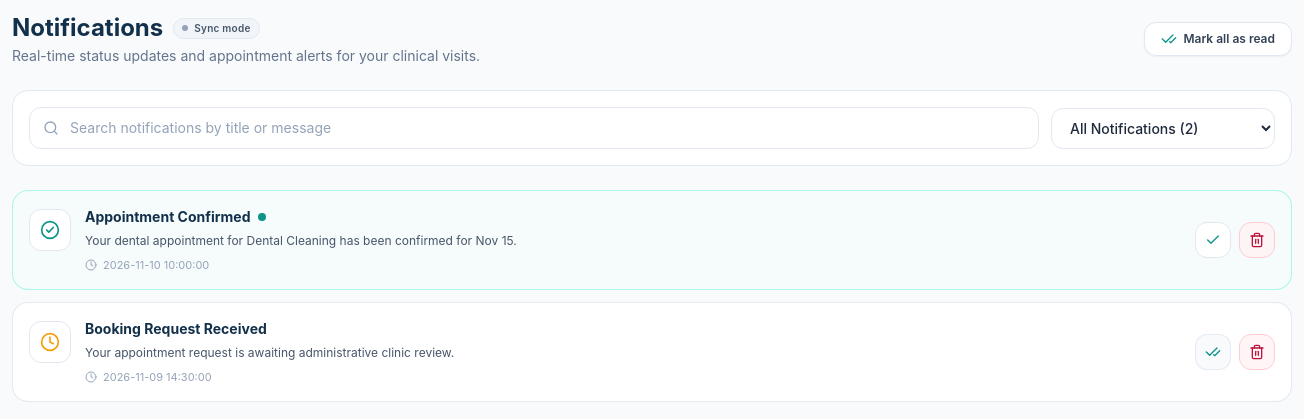
Test: PatientNotificationsPage Component › deletes a notification when clicking Delete button
Check: the heading "Appointment Confirmed" is shown, box [85, 207, 250, 227]
Click the button named "Delete notification: Appointment Confirmed": (1257, 240) [1239, 222, 1275, 258]
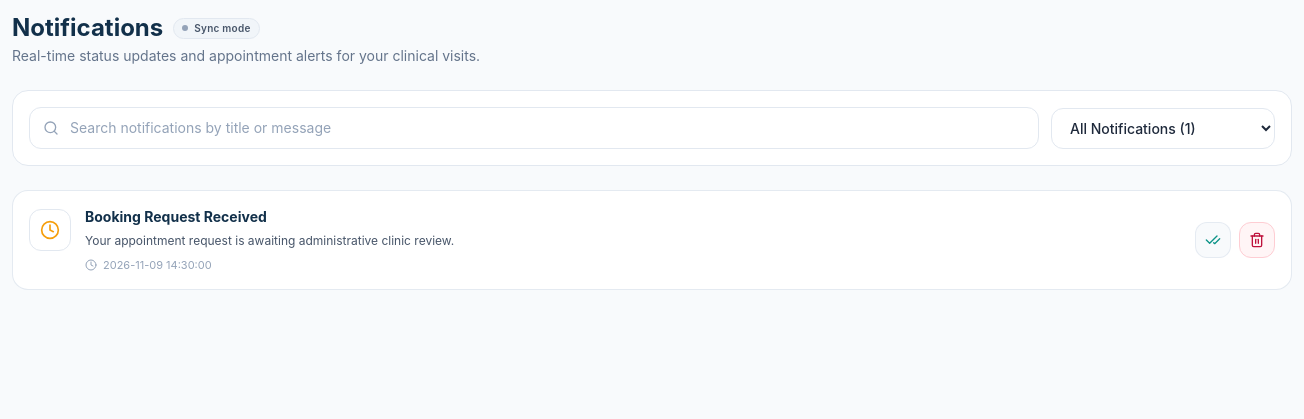
Check: the heading "Appointment Confirmed" is gone
